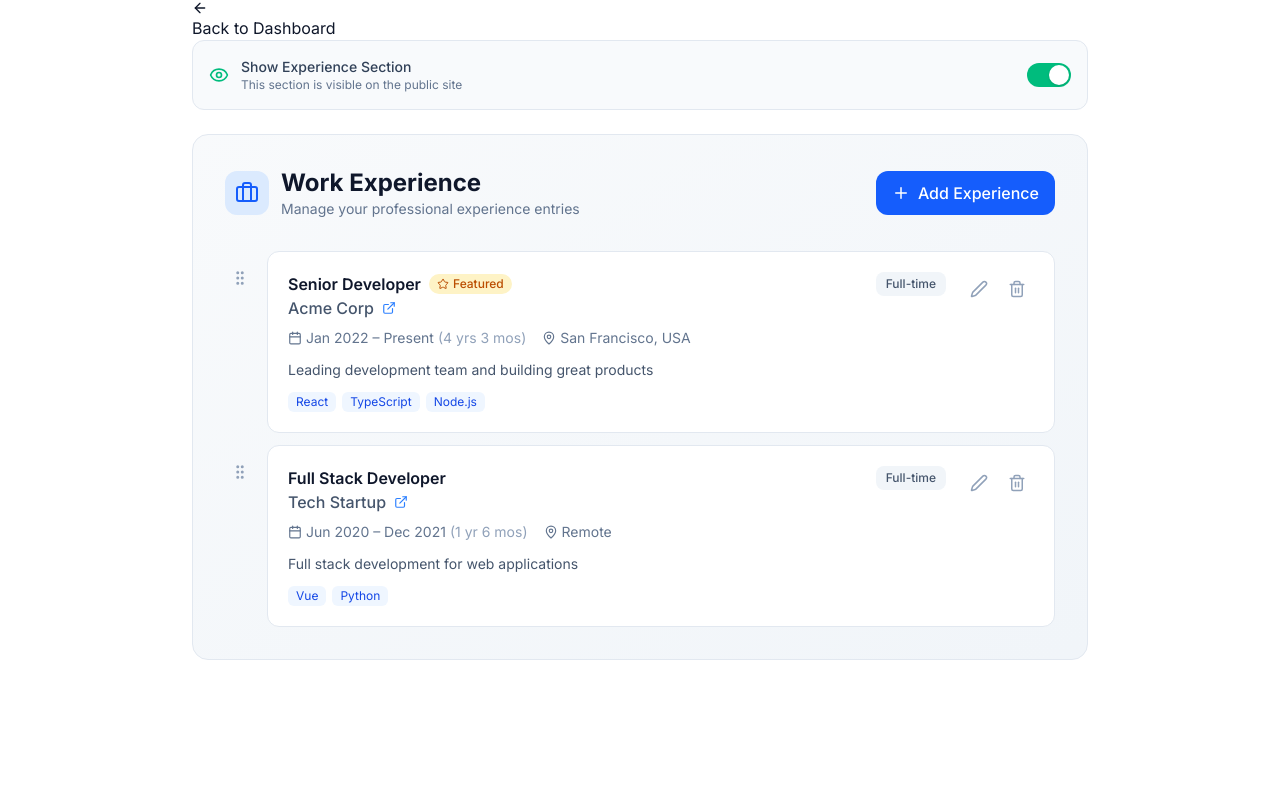
Scenario: ExperienceEditor › edit experience › opens edit modal when edit button is clicked
The width and height of the screenshot is (1280, 800).
# Find and click the edit button for first experience (aria-label includes position)
Click the button named "Edit Senior Developer" at (979,289), box [962,272,996,306]
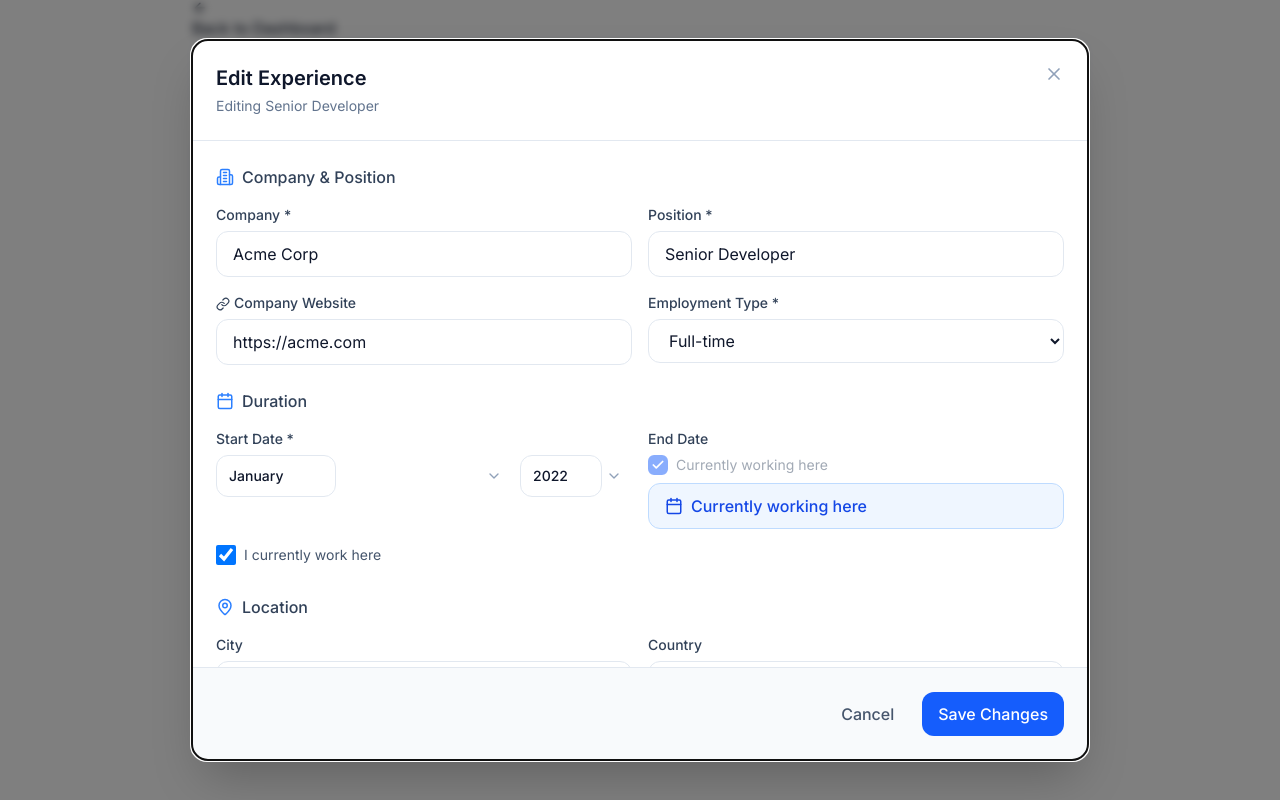
expect the heading "Edit Experience" is shown: met, box [216,64,379,92]
